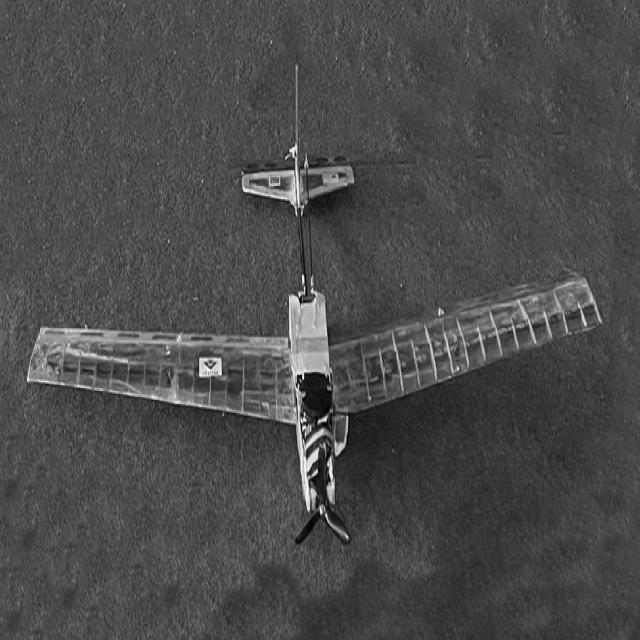iha: (27, 0, 601, 540)
